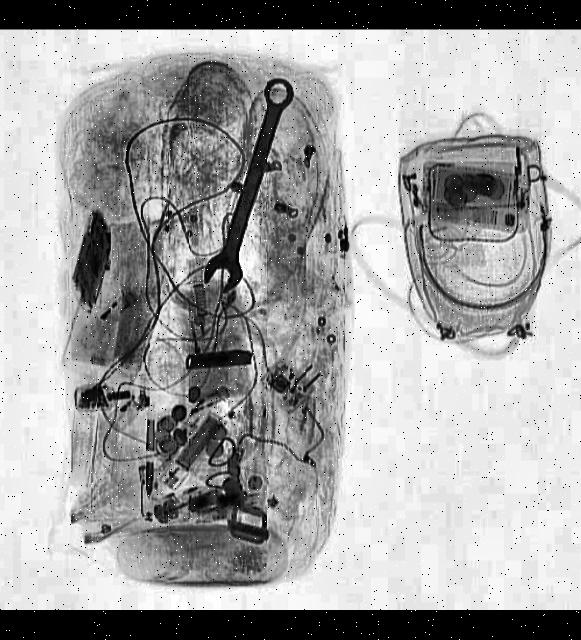Wrench: (196, 76, 302, 301)
